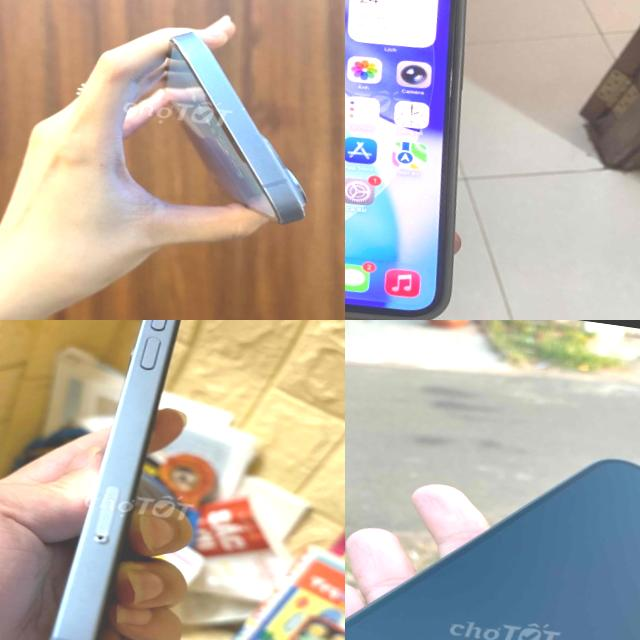gen_12_13: (345, 0, 498, 320)
gen_14: (20, 320, 217, 640), (132, 19, 330, 234)
gen_x_xs: (345, 461, 640, 640), (603, 511, 606, 517)
